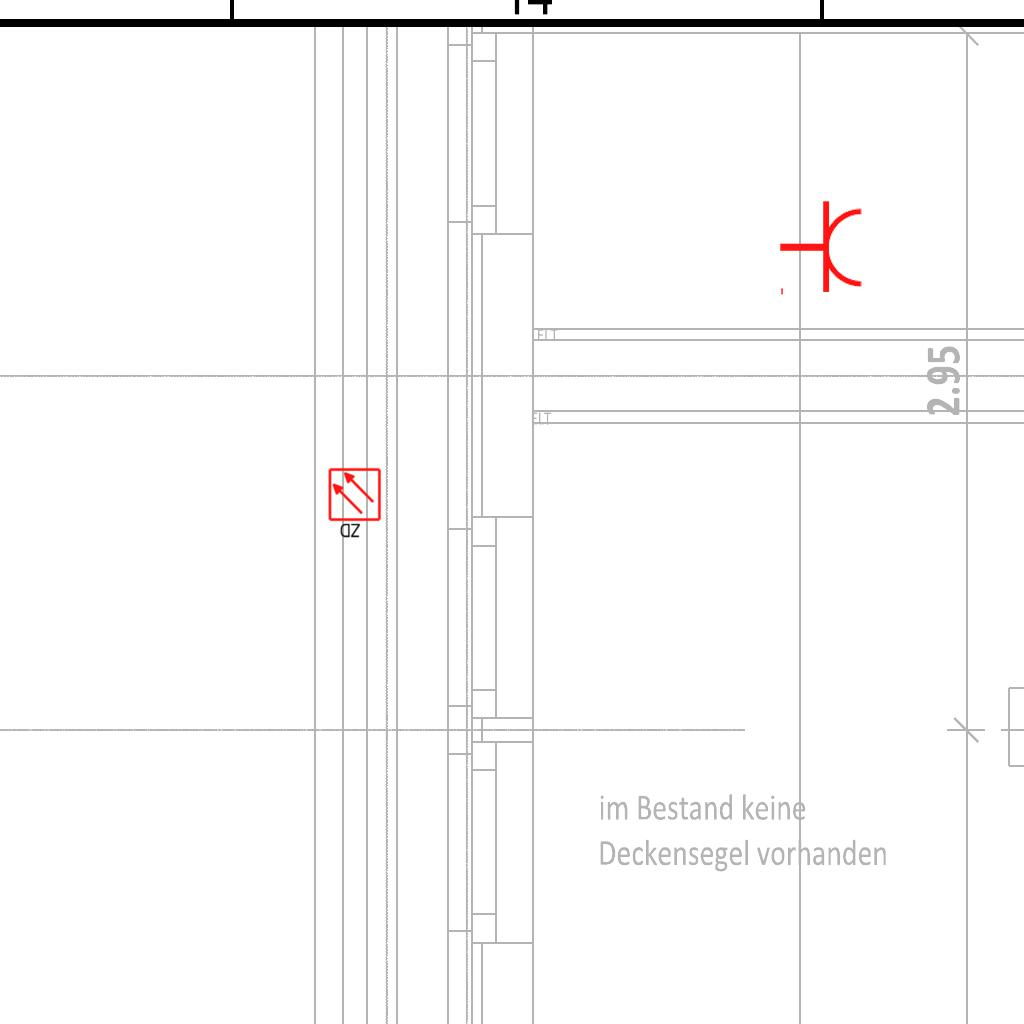Schukosteckdose_einfach: (778, 199, 865, 299)
ZD_Melder_in_Zwischendecke_mit_Revisionsoeffnung_mind_40_x_40_cm: (327, 467, 384, 541)
